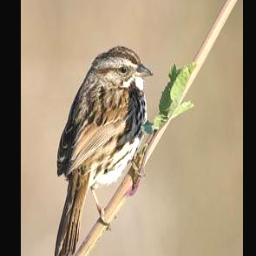Sparrow: (53, 42, 155, 256)
